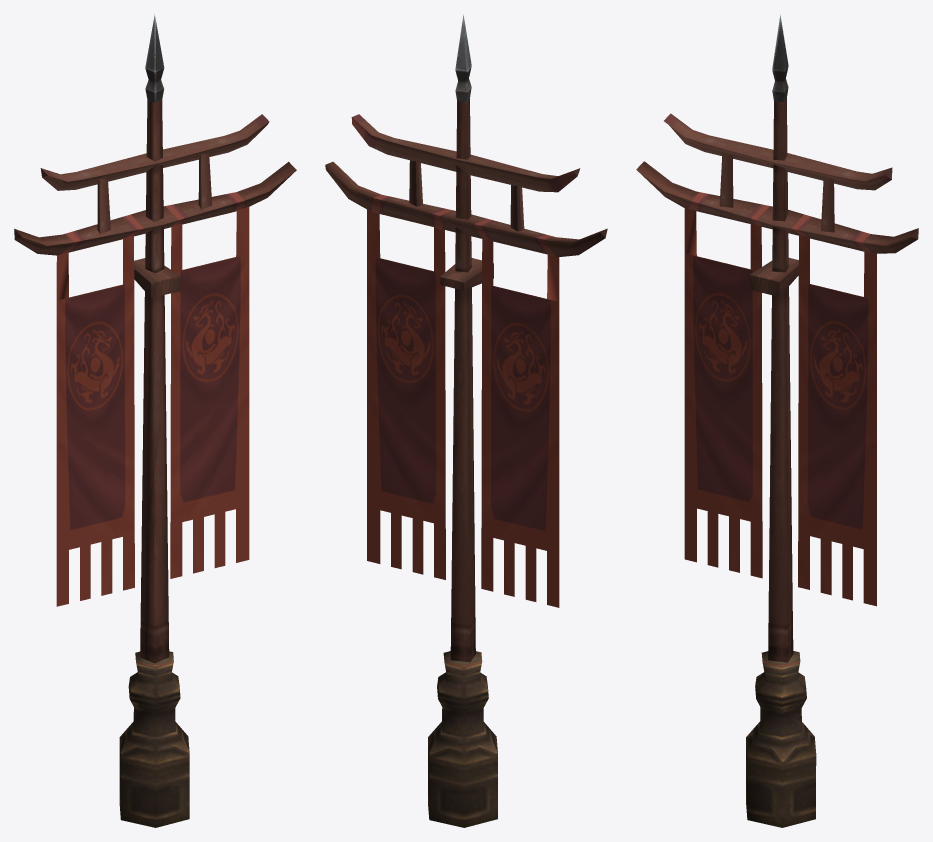
The picture shows the model from 3 angles, left to right: view 1: azimuth 30°, elevation 25°; view 2: azimuth 150°, elevation 25°; view 3: azimuth 330°, elevation 25°; orthographic projection.
Parts seen in each view (by area): view 1: YC_32; view 2: YC_32; view 3: YC_32.
Boxes of the visible parts, x1,y1,x2,y2 form: YC_32: [14, 14, 296, 827]; YC_32: [325, 14, 607, 827]; YC_32: [636, 14, 918, 827].
Bounding box in the file's own units: 201 × 546 × 43.43.
